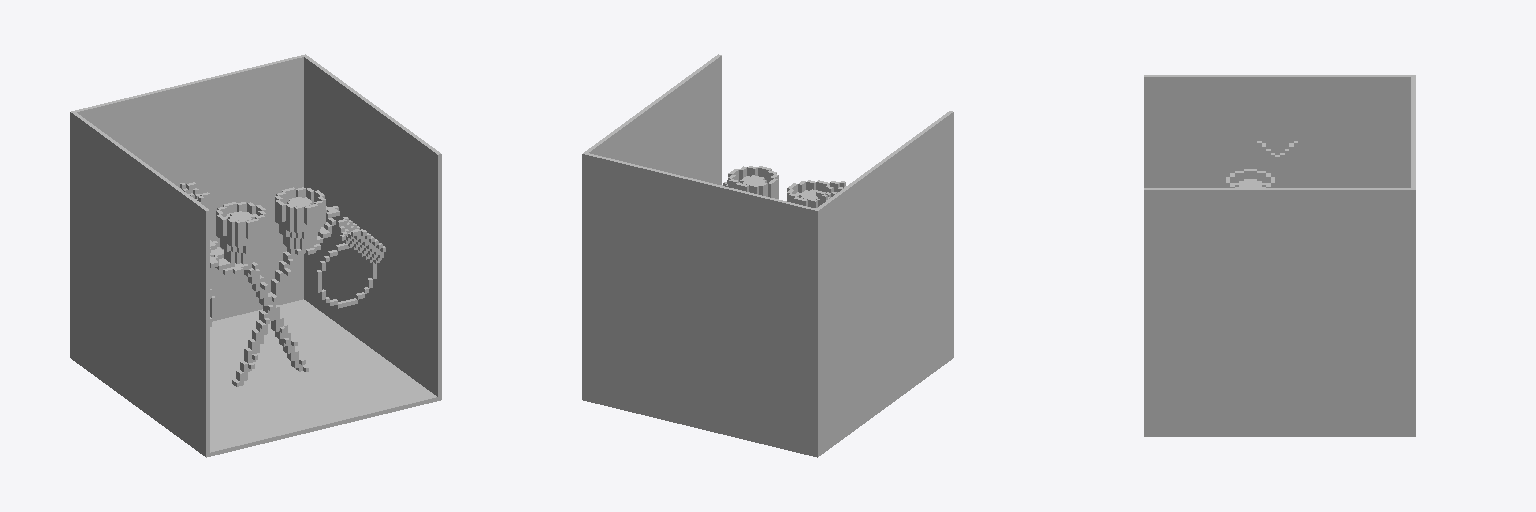
File: sauceboyz.obj
3 renders of one model, left to right at view 1: azimuth 30°, elevation 25°; view 2: azimuth 150°, elevation 25°; view 3: azimuth 270°, elevation 25°, orthographic.
Parts seen in each view (by area): view 1: object 1; view 2: object 1; view 3: object 1.
Boxes of the visible parts, box(x1,y1,x2,y2) form: object 1: box(70, 54, 441, 457); object 1: box(582, 54, 953, 457); object 1: box(1144, 75, 1415, 436).
Size of the model in its own units: 6 by 6 by 6.